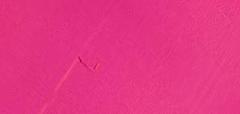snag: (75, 51, 102, 74)
